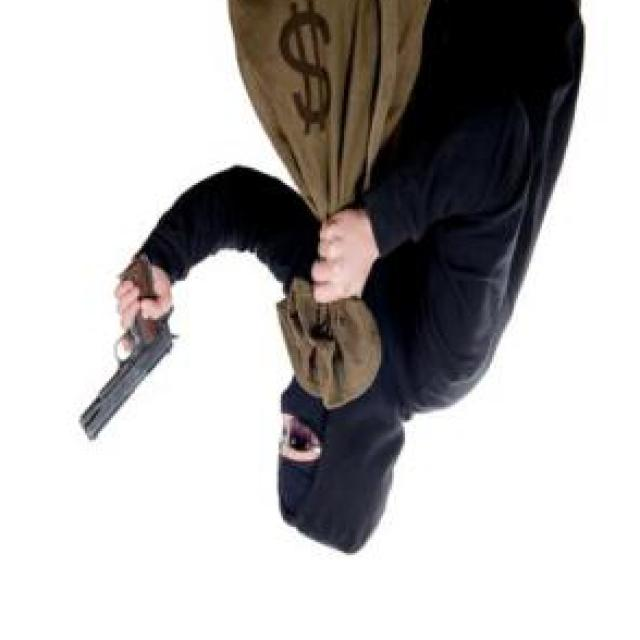pistol: (77, 248, 181, 446)
